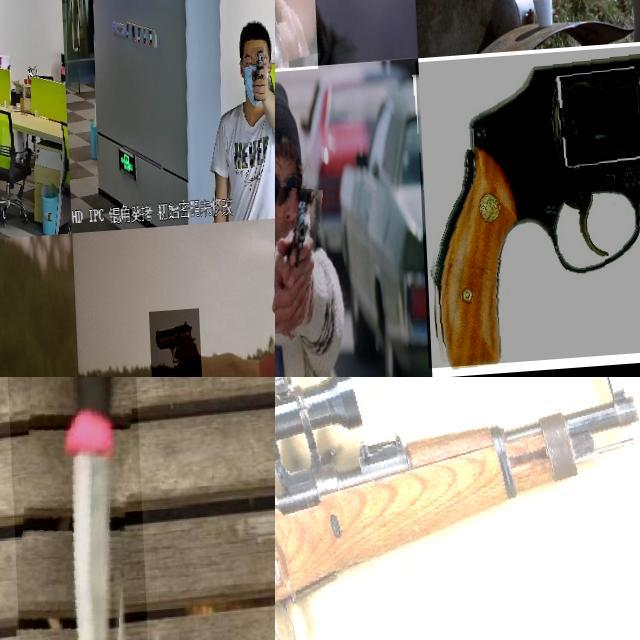-: (1, 377, 146, 640), (0, 377, 91, 640)
gun-knife-thesis - v11 Yolov5 augmented: (275, 377, 640, 640), (412, 49, 640, 373), (275, 0, 343, 115), (275, 188, 317, 339), (434, 0, 533, 48), (145, 315, 198, 377), (0, 314, 23, 377), (249, 54, 264, 110), (0, 78, 9, 133)
